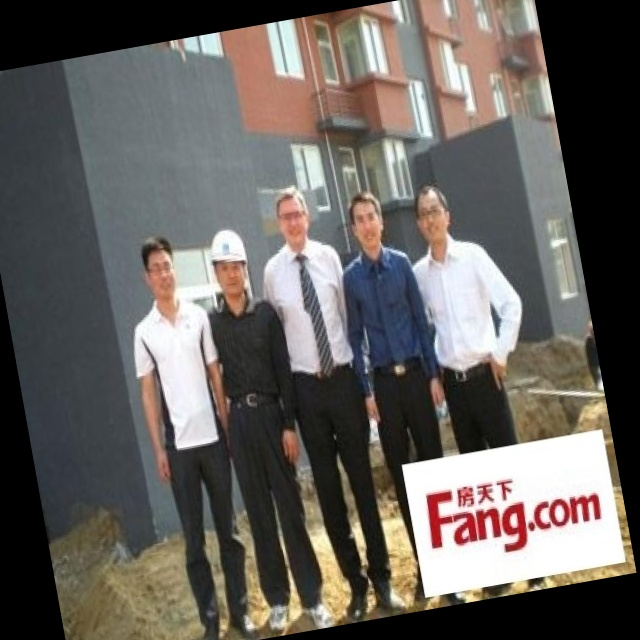Con_Casco: (204, 225, 255, 301)
Sin_Casco_Mascarrilla: (135, 232, 183, 304), (344, 190, 390, 254)
Sin_Chaleco: (133, 298, 235, 463), (261, 236, 359, 375)
